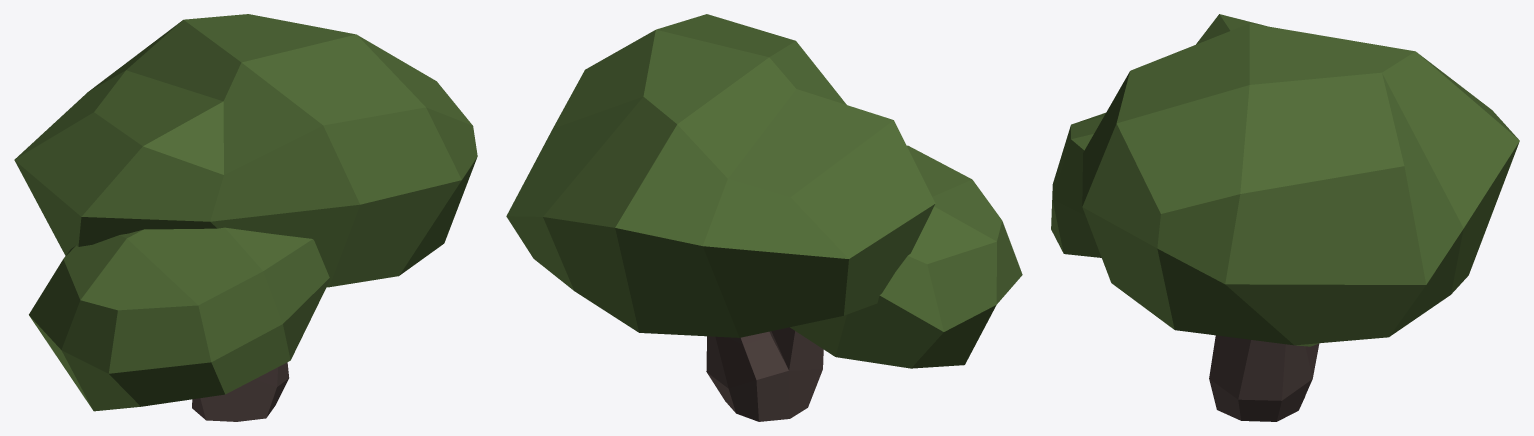
File: low_tree4.fbx
The picture shows the model from 3 angles, left to right: view 1: azimuth 30°, elevation 25°; view 2: azimuth 150°, elevation 25°; view 3: azimuth 270°, elevation 25°; orthographic projection. The views are drawn at different scales.
Parts seen in each view (by area): view 1: polySurface5, pCube14; view 2: polySurface5, pCube14; view 3: polySurface5, pCube14.
Boxes of the visible parts, box(x1,y1,x2,y2) form: polySurface5: box(14, 14, 477, 411); pCube14: box(192, 362, 289, 421); polySurface5: box(506, 14, 1022, 368); pCube14: box(706, 327, 823, 421); polySurface5: box(1051, 14, 1519, 346); pCube14: box(1209, 335, 1319, 421).
Size of the model in its own units: 8.14 by 6.59 by 7.34.
